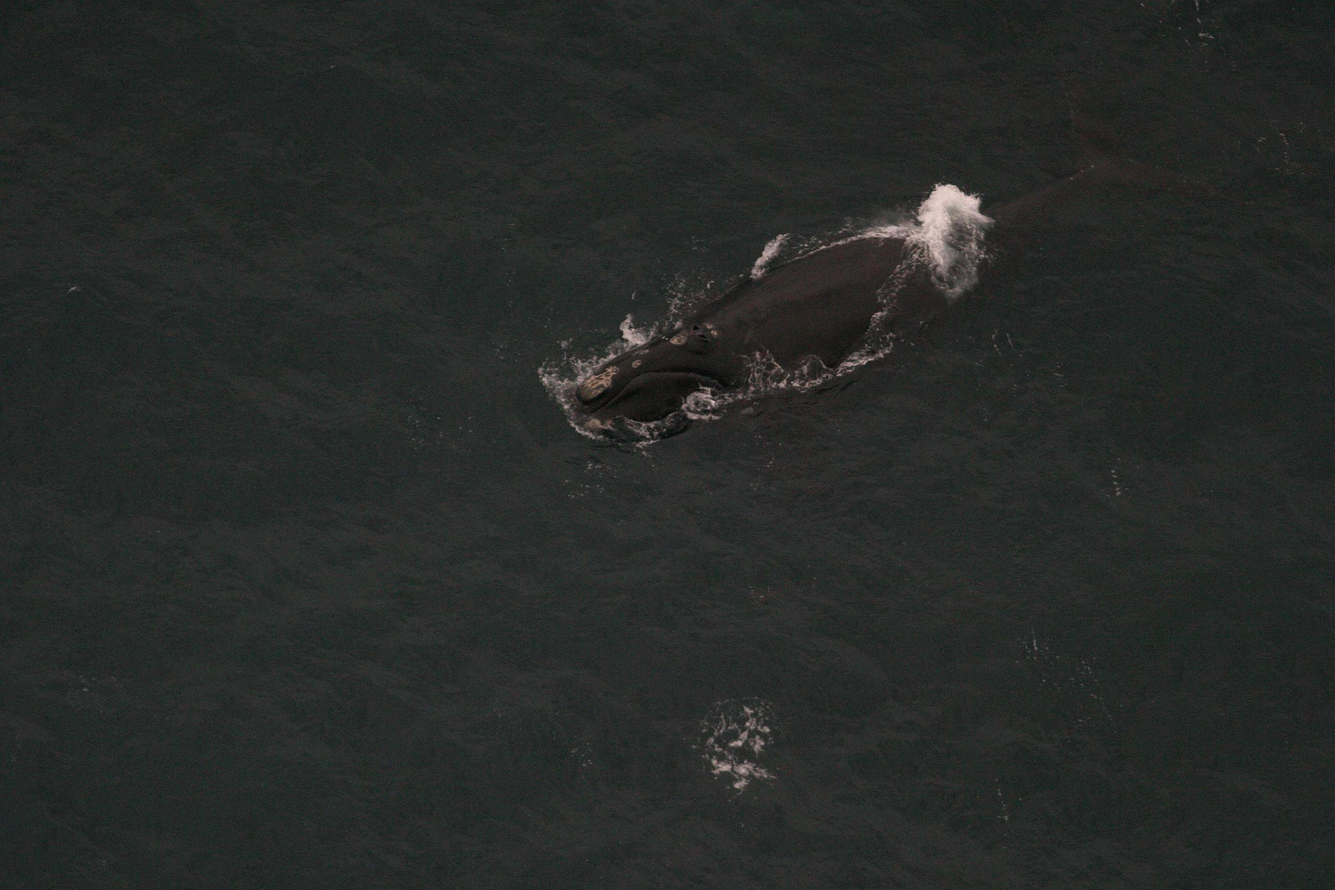whale: (552, 153, 1130, 453)
